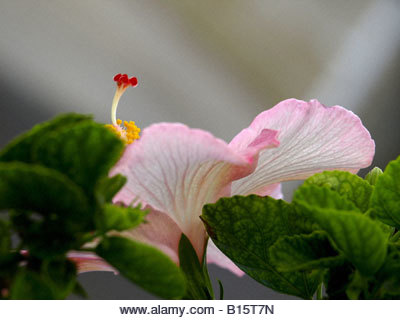Hibiscus: (44, 69, 379, 302)
